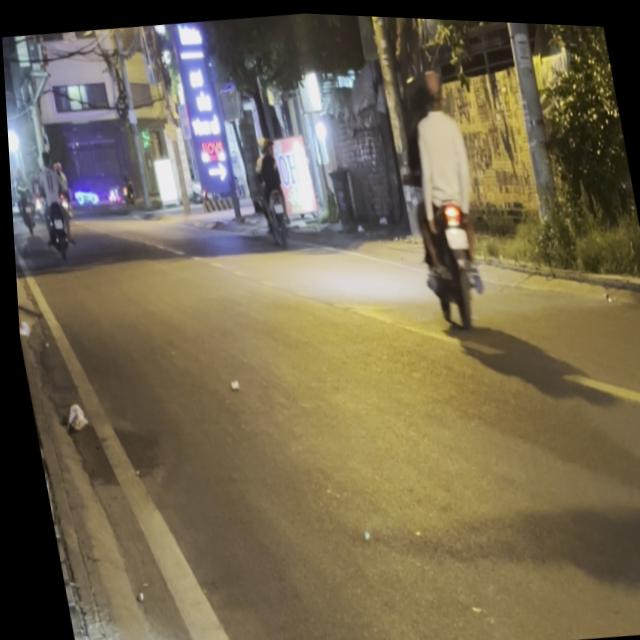helmet: (420, 62, 447, 107)
licenseplate: (386, 58, 497, 329), (603, 100, 640, 572)
nohelmet: (442, 222, 465, 246)
